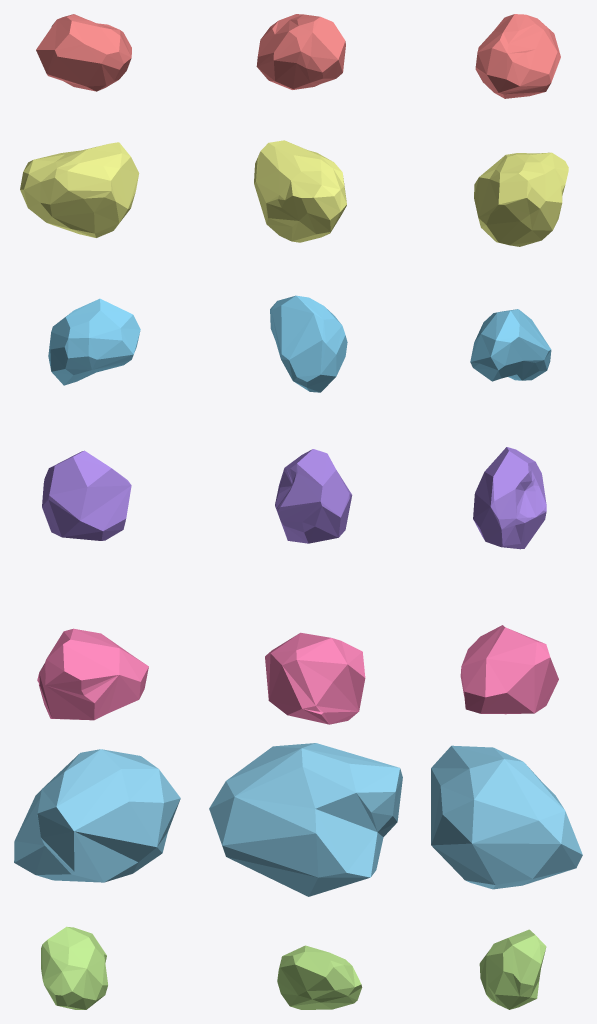
File: Rocks.fbx
3 views of the same model, side by side, from view 1: azimuth 30°, elevation 25°; view 2: azimuth 150°, elevation 25°; view 3: azimuth 270°, elevation 25° (orthographic).
Parts seen in each view (by area): view 1: PM3D_Sphere3D_9, PM3D_Sphere3D_4, PM3D_Sphere3D_8, PM3D_Sphere3D_6, PM3D_Sphere3D_5, PM3D_Sphere3D_3, PM3D_Sphere3D_10; view 2: PM3D_Sphere3D_9, PM3D_Sphere3D_8, PM3D_Sphere3D_4, PM3D_Sphere3D_6, PM3D_Sphere3D_5, PM3D_Sphere3D_3, PM3D_Sphere3D_10; view 3: PM3D_Sphere3D_9, PM3D_Sphere3D_4, PM3D_Sphere3D_8, PM3D_Sphere3D_6, PM3D_Sphere3D_3, PM3D_Sphere3D_5, PM3D_Sphere3D_10.
Part boxes in pixels (x1,y1,x2,y2): PM3D_Sphere3D_9: [14, 749, 180, 882]; PM3D_Sphere3D_4: [20, 142, 139, 237]; PM3D_Sphere3D_8: [37, 628, 148, 720]; PM3D_Sphere3D_6: [42, 450, 131, 540]; PM3D_Sphere3D_5: [48, 298, 140, 385]; PM3D_Sphere3D_3: [36, 14, 131, 91]; PM3D_Sphere3D_10: [41, 926, 107, 1009]; PM3D_Sphere3D_9: [209, 743, 402, 896]; PM3D_Sphere3D_8: [265, 632, 365, 724]; PM3D_Sphere3D_4: [254, 140, 346, 242]; PM3D_Sphere3D_6: [275, 449, 352, 543]; PM3D_Sphere3D_5: [270, 295, 347, 392]; PM3D_Sphere3D_3: [256, 14, 345, 89]; PM3D_Sphere3D_10: [277, 945, 362, 1009]; PM3D_Sphere3D_9: [431, 745, 582, 889]; PM3D_Sphere3D_4: [474, 152, 568, 246]; PM3D_Sphere3D_8: [460, 625, 558, 714]; PM3D_Sphere3D_6: [473, 447, 546, 549]; PM3D_Sphere3D_3: [475, 14, 560, 98]; PM3D_Sphere3D_5: [470, 309, 551, 381]; PM3D_Sphere3D_10: [479, 929, 546, 1009].
Size of the model in its own units: 3.41 by 22.43 by 3.13.
